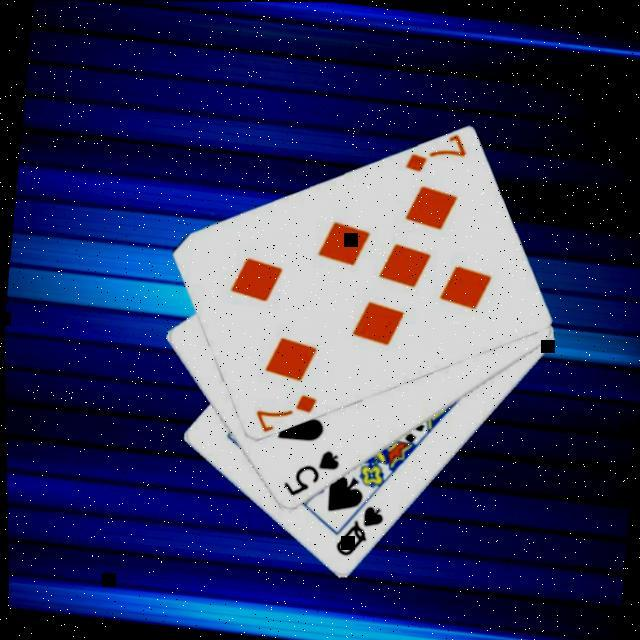5S: (274, 444, 340, 505)
7D: (246, 386, 317, 439), (397, 129, 468, 182)
QS: (326, 500, 385, 564)
